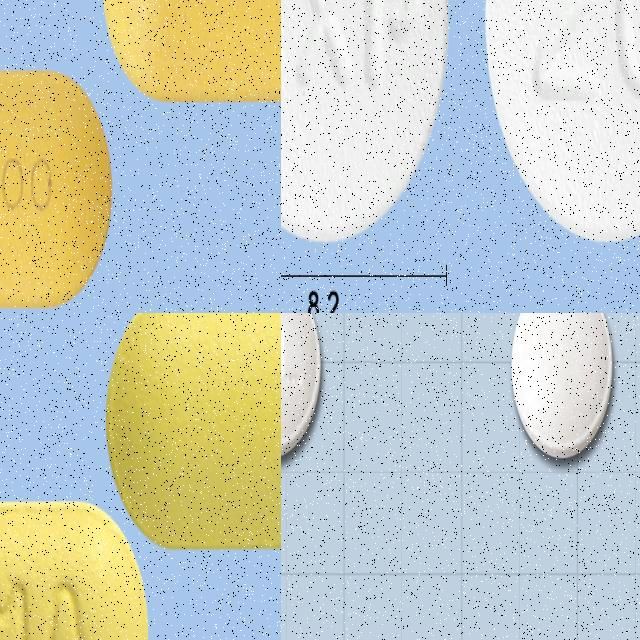Ilsung Clarithromycin: (0, 67, 114, 306), (102, 0, 281, 102)
Levicin: (512, 313, 615, 460), (281, 313, 323, 461)
Levotwo: (281, 0, 449, 243), (484, 0, 640, 242)
Liamclo -250mg: (107, 313, 281, 548), (0, 501, 151, 640)
